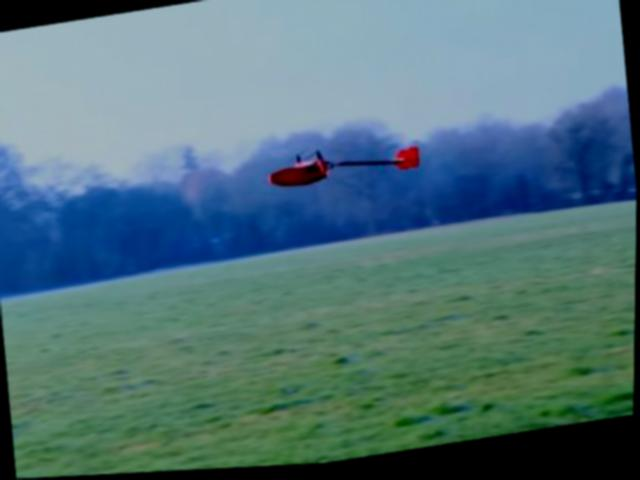uav: (264, 136, 424, 196)
